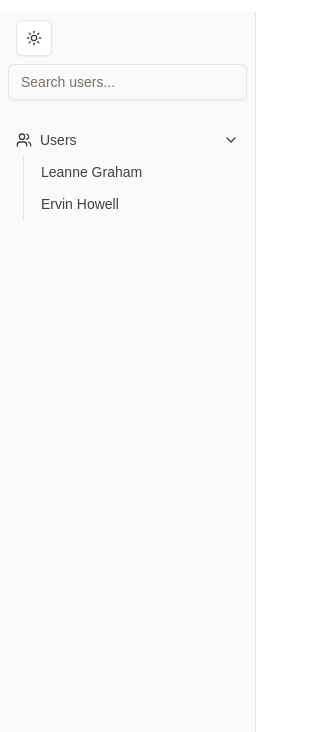
Test: AppSidebar › filters users based on debounced search input
Type "Leanne" into the field with placeholder "Search users..." at (128, 82), box [8,64,247,100]
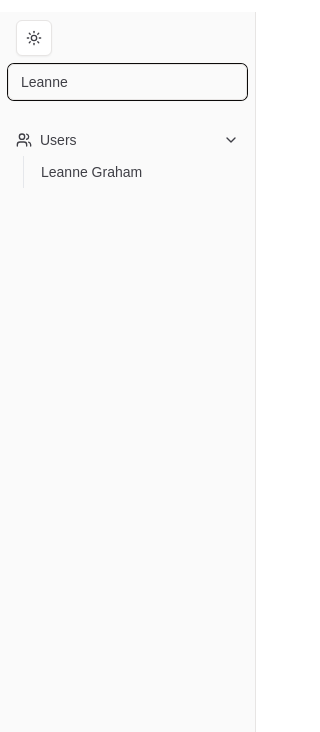
Check: the text "Leanne Graham" is shown, box [41,162,142,182]
Check: the link "Ervin Howell" is gone
